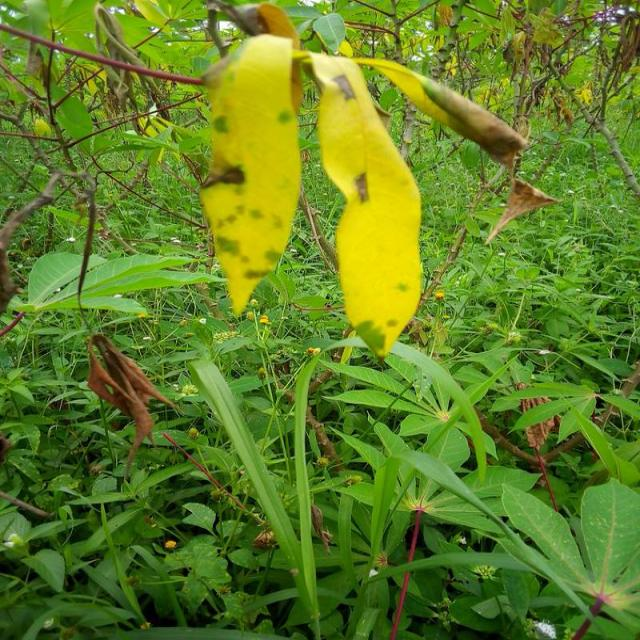cassava leaf: (313, 54, 423, 360), (198, 32, 304, 316)
